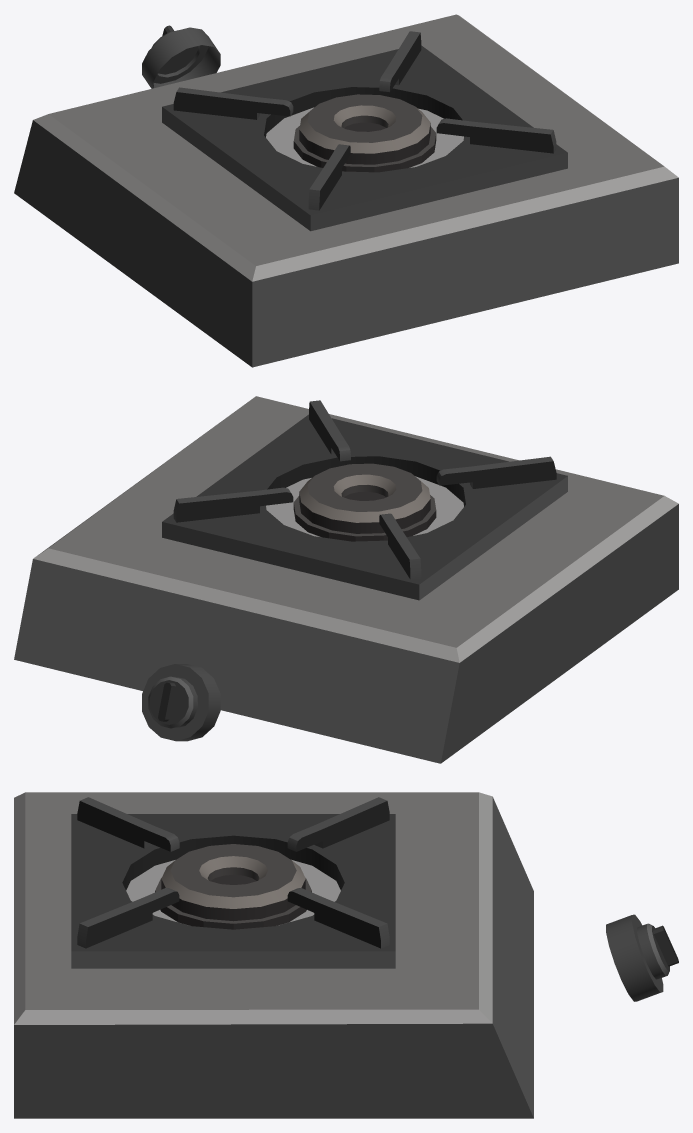
The model's file is Stove.fbx.
3 views of the same model, one above another, from view 1: azimuth 30°, elevation 25°; view 2: azimuth 150°, elevation 25°; view 3: azimuth 270°, elevation 25° (orthographic). The views are drawn at different scales.
Visible parts, largest first — view 1: Stove, Burner Dial; view 2: Stove, Burner Dial; view 3: Stove, Burner Dial.
Part boxes in pixels (x1,y1,x2,y2): Stove: (14, 14, 678, 367); Burner Dial: (142, 25, 220, 88); Stove: (14, 396, 678, 763); Burner Dial: (142, 664, 220, 741); Stove: (14, 792, 533, 1118); Burner Dial: (606, 914, 678, 1001).
Bounding box in the file's own units: 72.4 × 21.23 × 89.52.
